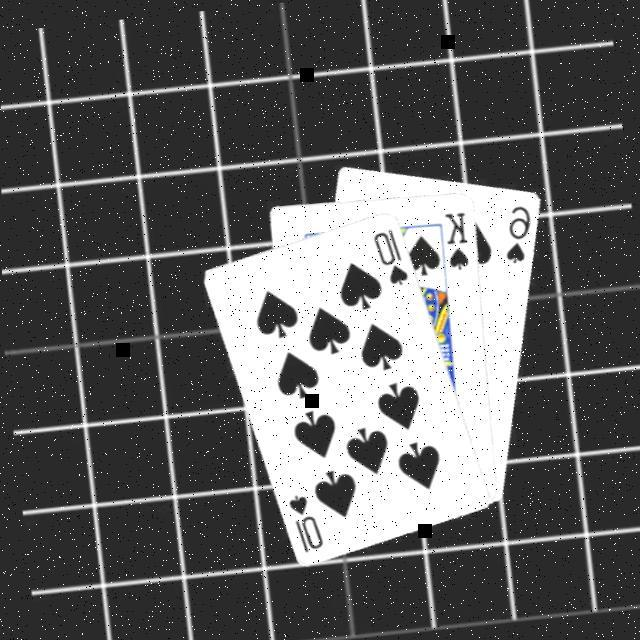10S: (371, 222, 414, 290), (285, 487, 328, 555)
6S: (499, 200, 540, 266)
KS: (442, 206, 476, 272)
